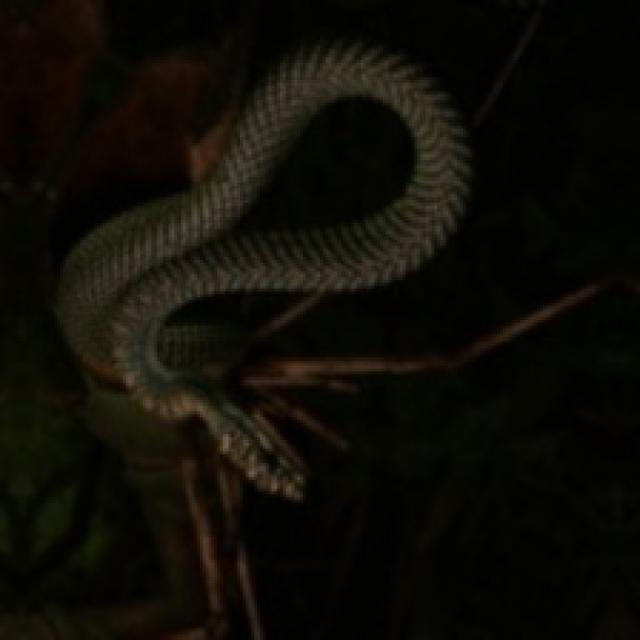paradise tree snake: (57, 43, 469, 497), (274, 280, 614, 377), (231, 94, 414, 234)
